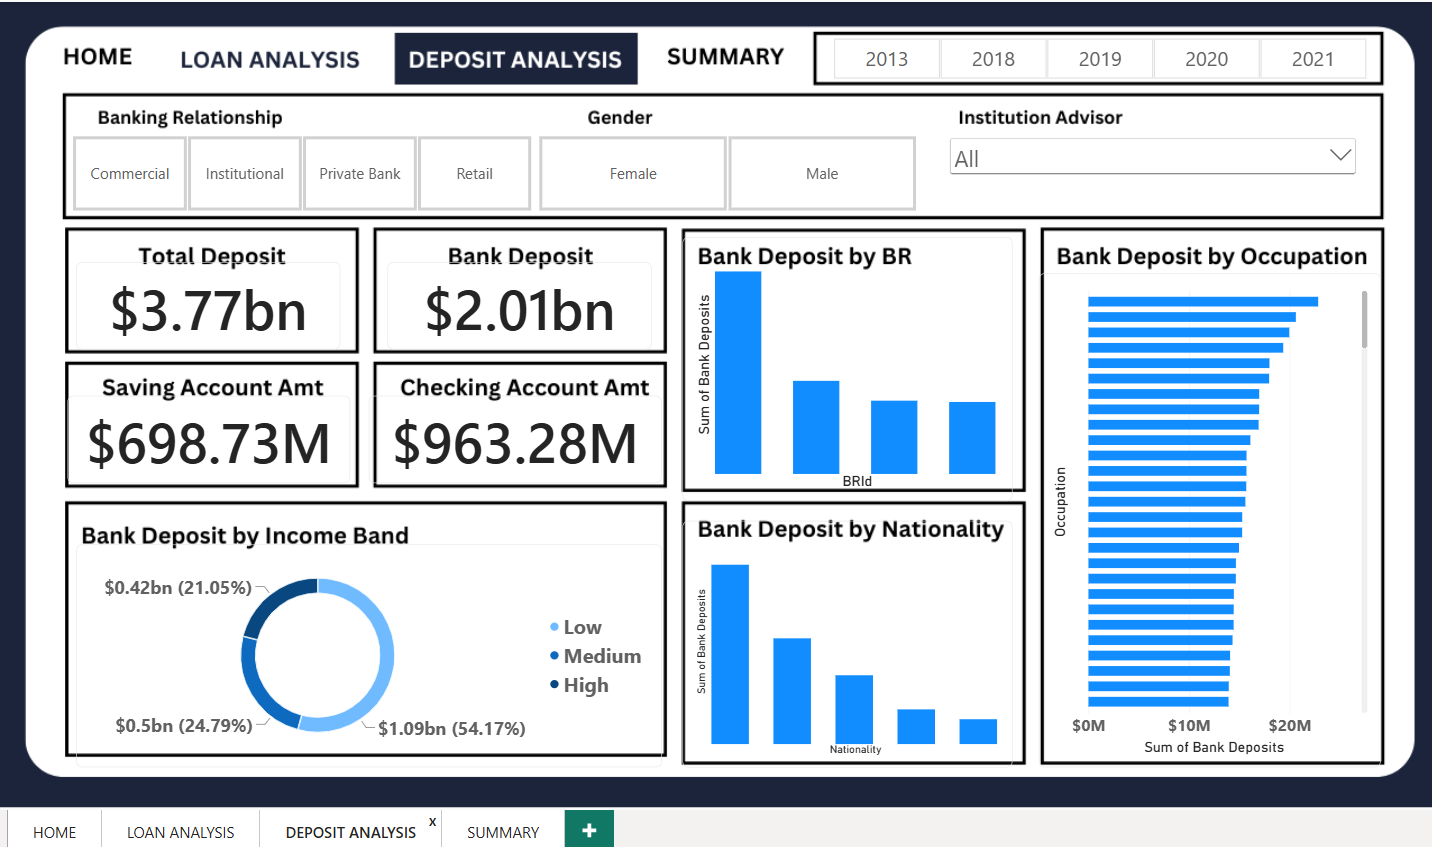

The page's visual inventory and layout, read from the dashboard file:
{"tool":"powerbi","page":{"name":"DEPOSIT ANALYSIS","canvas":[1920,1080],"ordinal":2},"visuals":[{"type":"actionButton","box":[214.8,44.1,289.6,63.3],"z":0},{"type":"actionButton","box":[870.8,44.1,195.6,63.3],"z":1000},{"type":"actionButton","box":[65.2,44.1,132.3,63.3],"z":2000},{"type":"card","fields":{"Values":["banking_case customer.Total Deposit"]},"box":[101.7,347.2,352.9,117],"z":3000},{"type":"card","fields":{"Values":["Sum(banking_case customer.Bank Deposits)"]},"box":[517.9,347.2,352.9,117],"z":4000},{"type":"card","fields":{"Values":["Sum(banking_case customer.Saving Accounts)"]},"box":[90.1,525.6,377.9,117],"z":5000},{"type":"card","fields":{"Values":["Sum(banking_case customer.Checking Accounts)"]},"box":[492.9,525.6,391.3,117],"z":6000},{"type":"donutChart","fields":{"Category":["banking_case customer.Income Band"],"Y":["Sum(banking_case customer.Bank Deposits)"]},"box":[101.7,725,782.6,297.3],"z":7000},{"type":"columnChart","fields":{"Category":["banking_case customer.BRId"],"Y":["Sum(banking_case customer.Bank Deposits)"]},"box":[911.1,314.6,441.2,352.9],"z":8000},{"type":"columnChart","fields":{"Category":["banking_case customer.Nationality"],"Y":["Sum(banking_case customer.Bank Deposits)"]},"box":[911.1,692.4,441.2,329.9],"z":9000},{"type":"barChart","fields":{"Category":["banking_case customer.Occupation"],"Y":["Sum(banking_case customer.Bank Deposits)"]},"box":[1386.8,362.5,456.5,659.8],"z":10000},{"type":"slicer","fields":{"Values":["banking_case customer.BRId"]},"box":[76.7,176.5,652.1,103.6],"z":11000},{"type":"slicer","fields":{"Values":["banking_case customer.GenderId"]},"box":[700.1,176.5,542.8,103.6],"z":12000},{"type":"slicer","fields":{"Values":["banking_case customer.IAId"]},"box":[1264,176.5,552.4,103.6],"z":13000},{"type":"slicer","fields":{"Values":["banking_case customer.Year of Joining"]},"box":[1093.3,46,750,57.5],"z":14000}]}

Visuals, with their boxes on the page's 1920x1080 design canvas (x1, y1, x2, y2). These are canvas units, not pixel positions in the 1432x847 screenshot, which may show the page scaled, cropped or inside an application window:
actionButton: [215,44,504,107]
actionButton: [871,44,1066,107]
actionButton: [65,44,198,107]
card - banking_case customer.Total Deposit: [102,347,455,464]
card - Sum(banking_case customer.Bank Deposits): [518,347,871,464]
card - Sum(banking_case customer.Saving Accounts): [90,526,468,643]
card - Sum(banking_case customer.Checking Accounts): [493,526,884,643]
donutChart - banking_case customer.Income Band x Sum(banking_case customer.Bank Deposits): [102,725,884,1022]
columnChart - banking_case customer.BRId x Sum(banking_case customer.Bank Deposits): [911,315,1352,668]
columnChart - banking_case customer.Nationality x Sum(banking_case customer.Bank Deposits): [911,692,1352,1022]
barChart - banking_case customer.Occupation x Sum(banking_case customer.Bank Deposits): [1387,362,1843,1022]
slicer - banking_case customer.BRId: [77,176,729,280]
slicer - banking_case customer.GenderId: [700,176,1243,280]
slicer - banking_case customer.IAId: [1264,176,1816,280]
slicer - banking_case customer.Year of Joining: [1093,46,1843,104]
